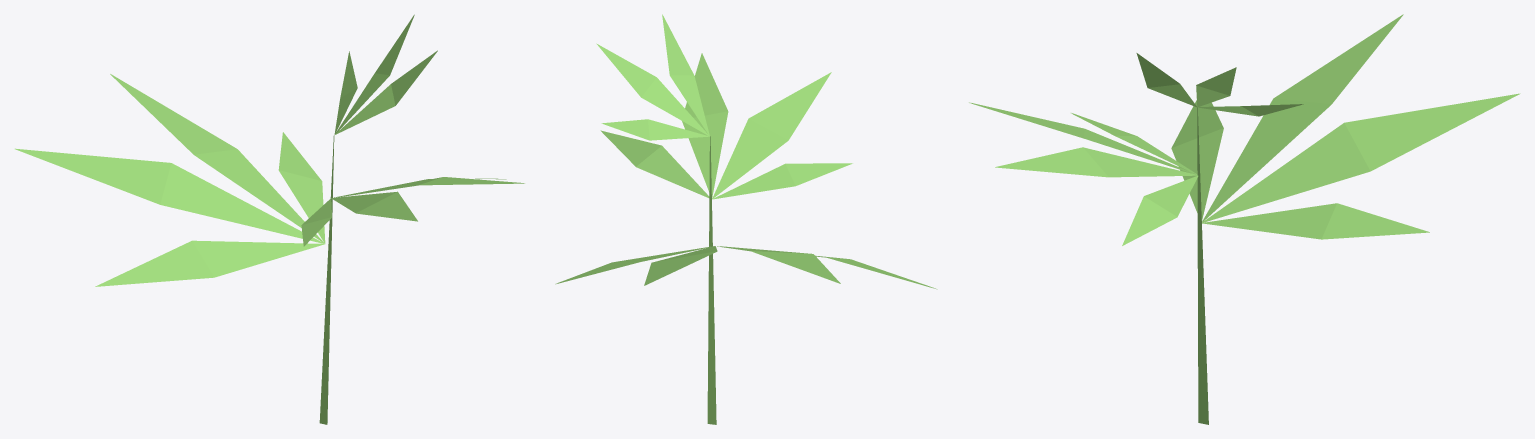
The model's file is Plant_i_TwoS_09.fbx.
The picture shows the model from 3 angles, left to right: view 1: azimuth 30°, elevation 25°; view 2: azimuth 150°, elevation 25°; view 3: azimuth 270°, elevation 25°; orthographic projection. The views are drawn at different scales.
Parts seen in each view (by area): view 1: Plant_i_TwoS_09; view 2: Plant_i_TwoS_09; view 3: Plant_i_TwoS_09.
Part boxes in pixels (x1,y1,x2,y2): Plant_i_TwoS_09: (15, 14, 524, 424); Plant_i_TwoS_09: (555, 14, 937, 424); Plant_i_TwoS_09: (969, 14, 1520, 424).
Size of the model in its own units: 31.03 by 29.09 by 35.15.
